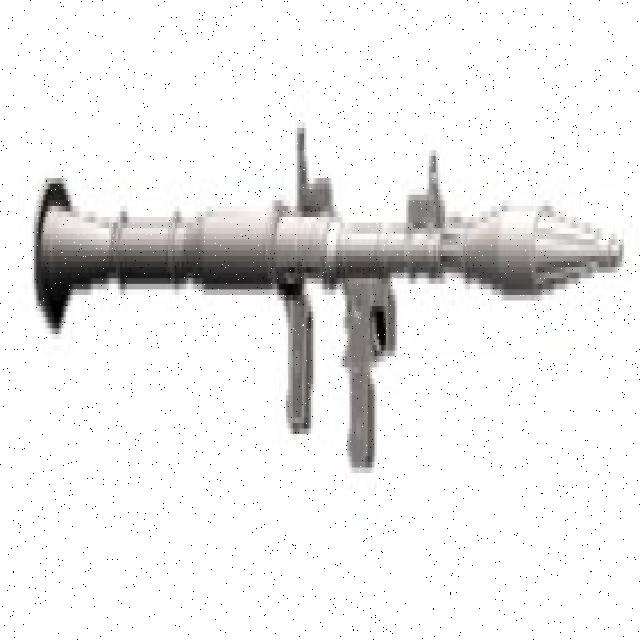bazooka: (27, 112, 632, 483)
